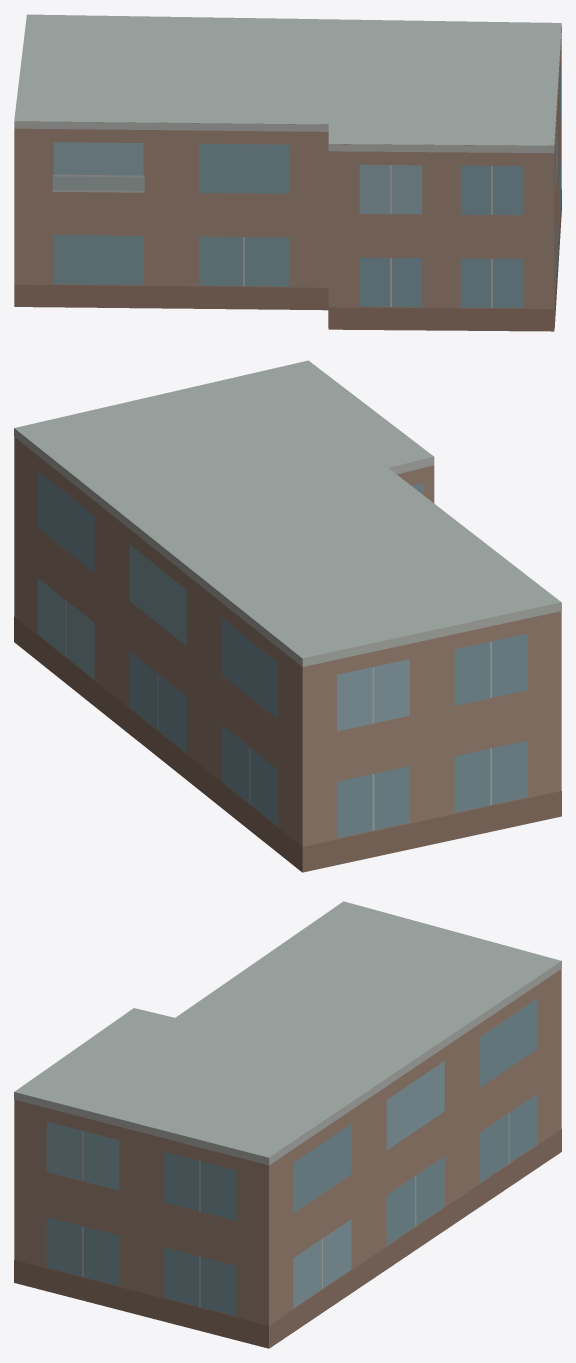
The model's file is survey-upis-32966596.glb.
3 views of the same model, one above another, from view 1: azimuth 30°, elevation 25°; view 2: azimuth 150°, elevation 25°; view 3: azimuth 270°, elevation 25° (orthographic). The views are drawn at different scales.
Visible parts, largest first — view 1: survey-upis-32966596.tmp; view 2: survey-upis-32966596.tmp; view 3: survey-upis-32966596.tmp.
Part boxes in pixels (x1,y1,x2,y2): survey-upis-32966596.tmp: [14, 14, 561, 331]; survey-upis-32966596.tmp: [14, 360, 561, 872]; survey-upis-32966596.tmp: [14, 901, 561, 1348].
Size of the model in its own units: 17.59 by 6.1 by 15.87.
